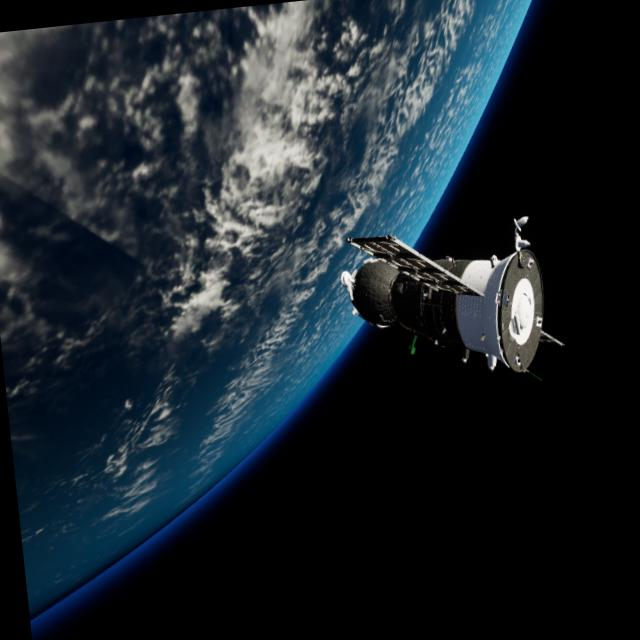Satellites revolving around earth: (334, 206, 568, 394)
